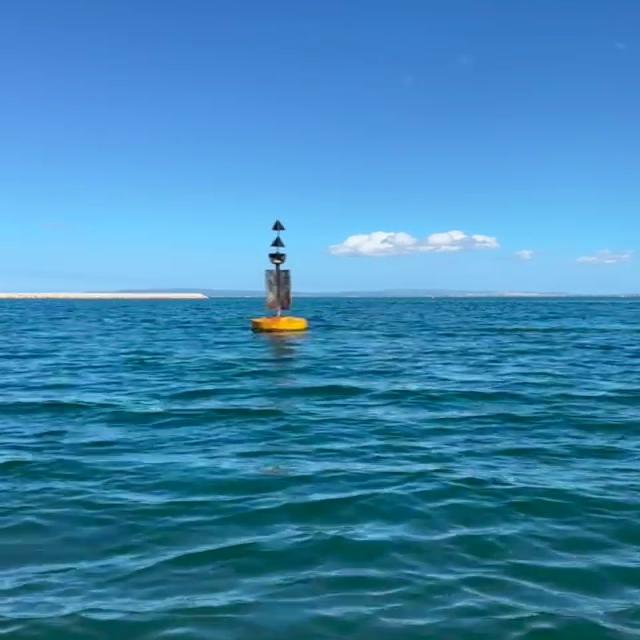marque: (253, 215, 305, 331)
